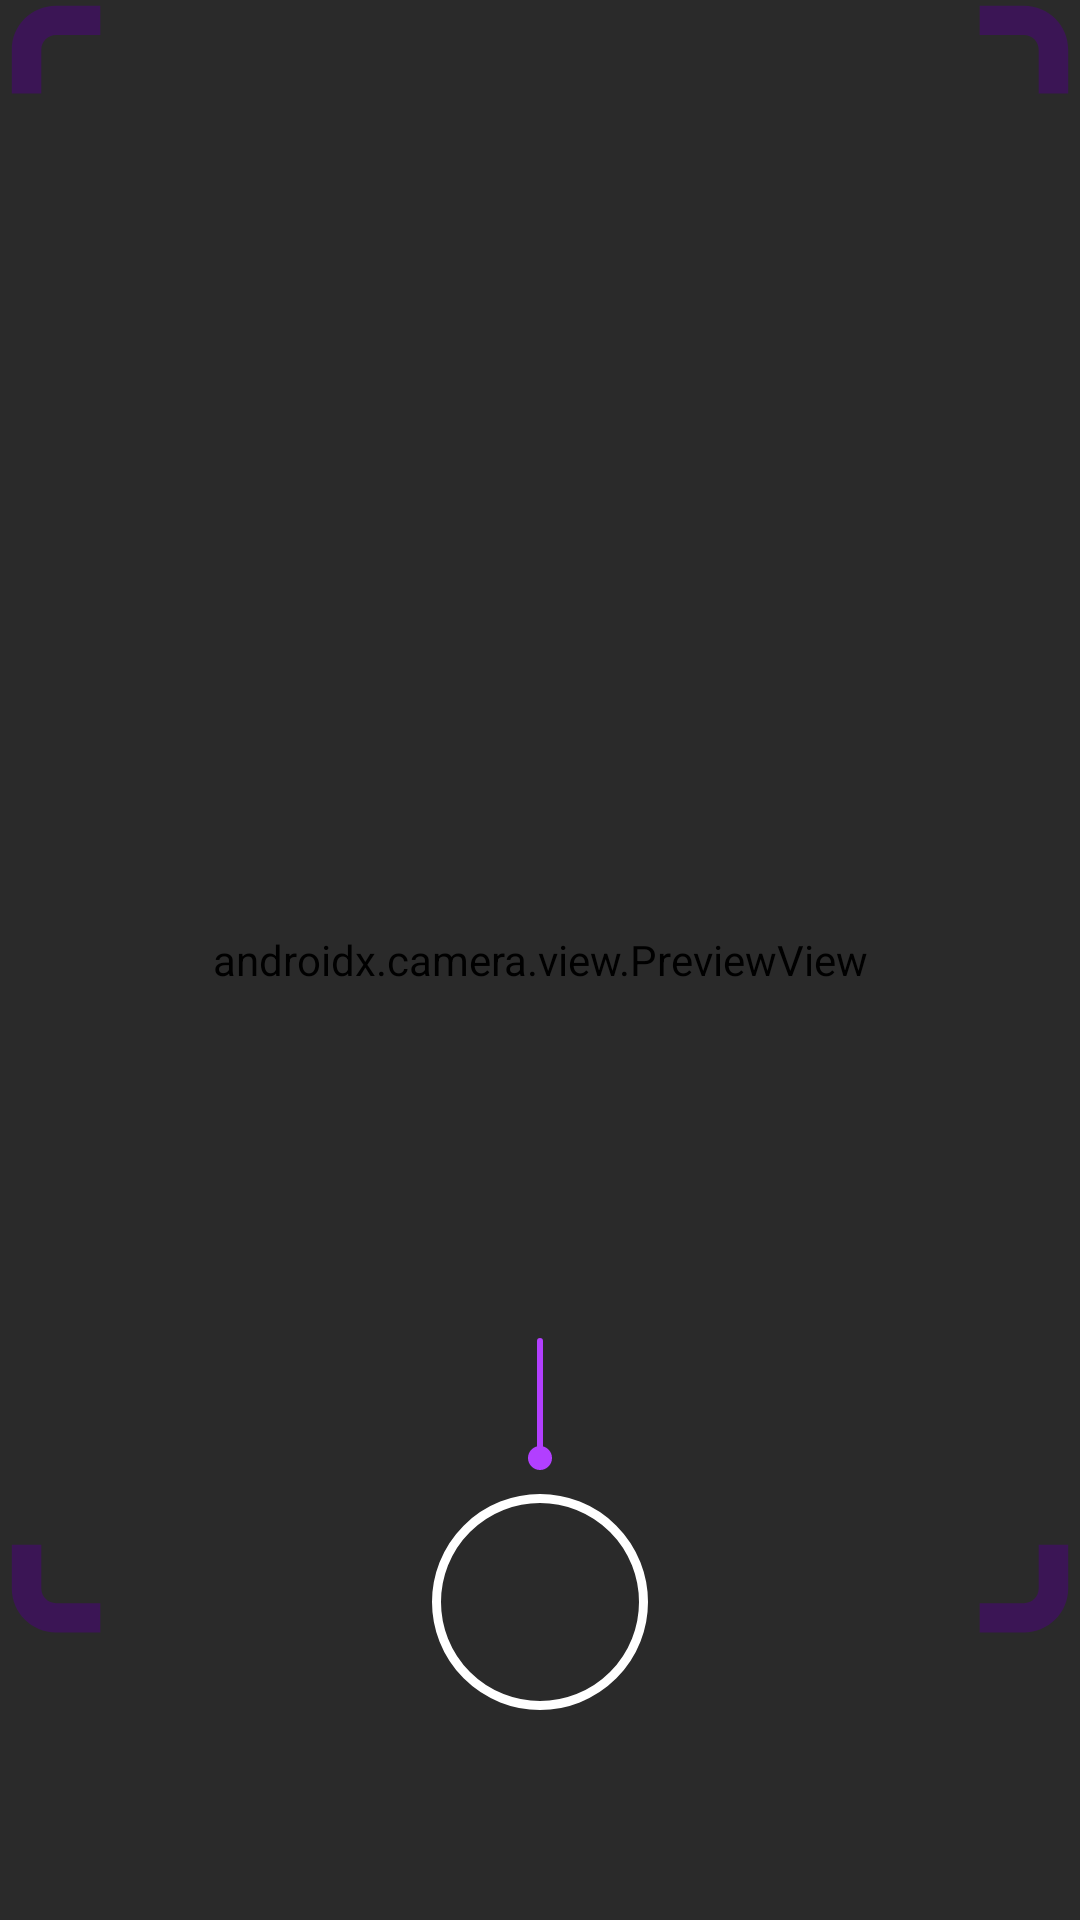

Named icons in this screenshot (1080 × 1920) and their bounding boxes, [x1, y1, x2, y2]:
line: [528, 1338, 552, 1470]
